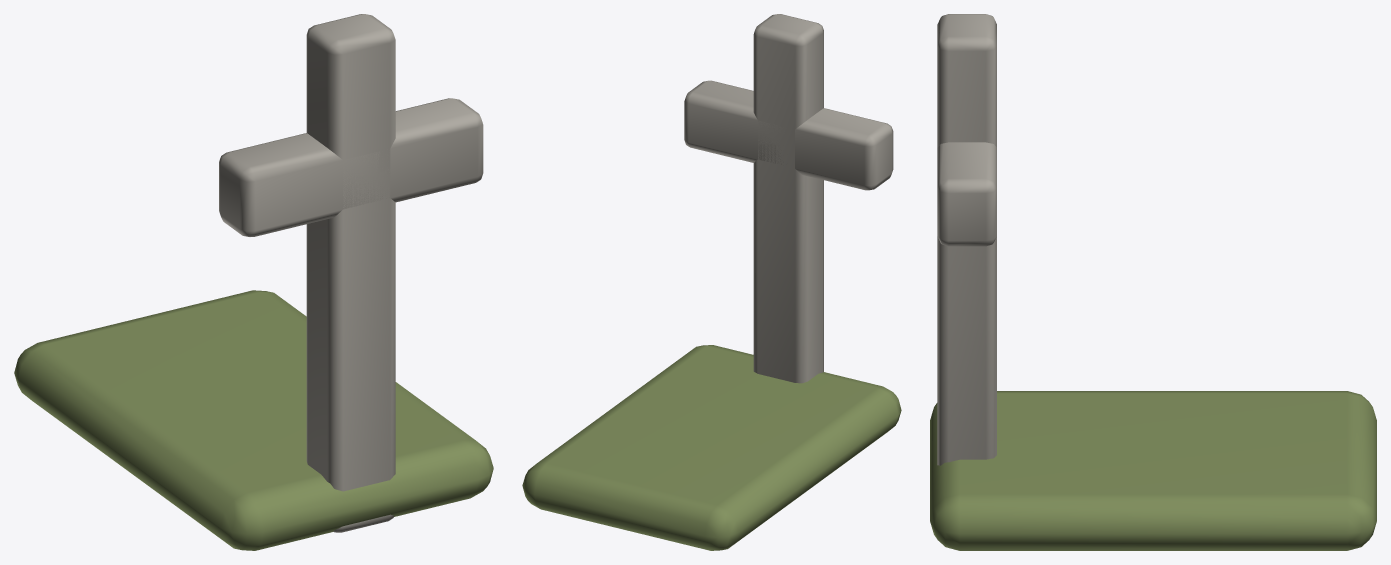
Rendered from gravestone_cross.glb.
3 views of the same model, side by side, from view 1: azimuth 30°, elevation 25°; view 2: azimuth 150°, elevation 25°; view 3: azimuth 270°, elevation 25° (orthographic). The views are drawn at different scales.
Visible parts, largest first — view 1: LH_gravestone_cross; view 2: LH_gravestone_cross; view 3: LH_gravestone_cross.
Part boxes in pixels (x1,y1,x2,y2): LH_gravestone_cross: [14, 14, 493, 550]; LH_gravestone_cross: [522, 14, 901, 550]; LH_gravestone_cross: [930, 14, 1376, 550].
Size of the model in its own units: 0.4 by 0.7 by 0.6.
